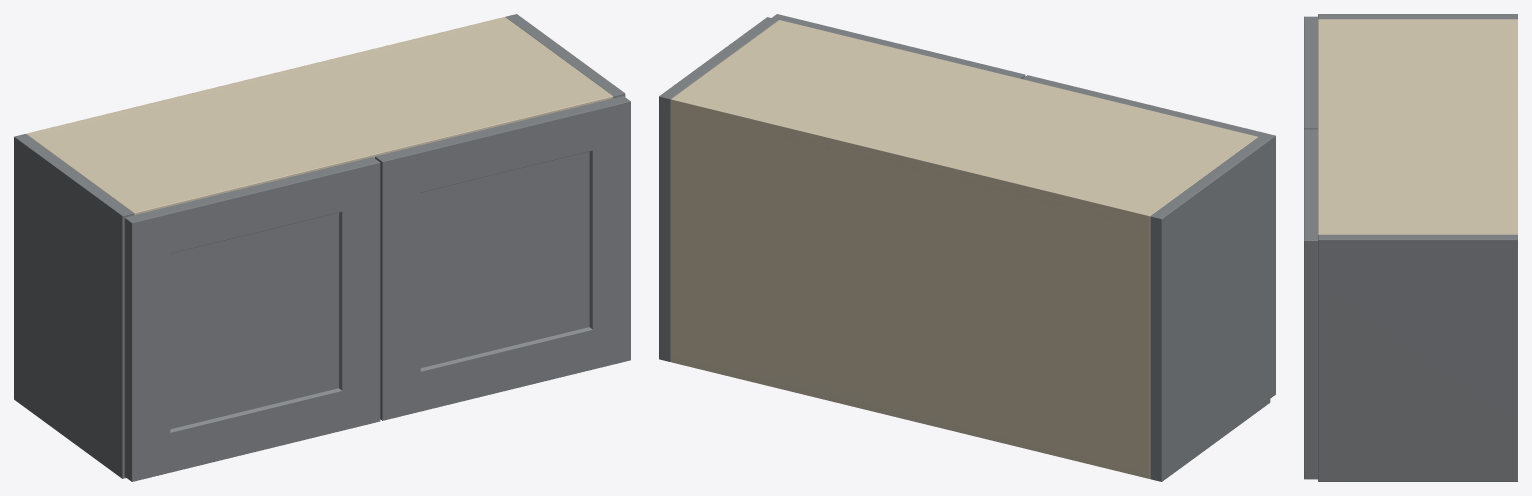
Rendered from oppein-ply-gss-w3015.glb.
The picture shows the model from 3 angles, left to right: view 1: azimuth 30°, elevation 25°; view 2: azimuth 150°, elevation 25°; view 3: azimuth 270°, elevation 25°; orthographic projection. The views are drawn at different scales.
Visible parts, largest first — view 1: Door, Door.001, Cabinet top, Cabinet side, Cabinet back, Cabinet side.001; view 2: Cabinet back, Cabinet top, Cabinet side, Cabinet bottom, Cabinet side.001, Door, Door.001; view 3: Cabinet side.001, Cabinet top, Door.001, Cabinet back, Door, Cabinet side.
Part boxes in pixels (left/top/right/bottom): Door: left=124, top=157, right=380, bottom=481; Door.001: left=375, top=96, right=630, bottom=420; Cabinet top: left=26, top=17, right=613, bottom=215; Cabinet side: left=14, top=134, right=133, bottom=478; Cabinet back: left=26, top=17, right=507, bottom=136; Cabinet side.001: left=505, top=14, right=625, bottom=98; Cabinet back: left=671, top=96, right=1153, bottom=478; Cabinet top: left=671, top=20, right=1257, bottom=227; Cabinet side: left=1150, top=137, right=1270, bottom=481; Cabinet bottom: left=671, top=350, right=1149, bottom=478; Cabinet side.001: left=659, top=17, right=778, bottom=361; Door: left=1022, top=75, right=1275, bottom=398; Door.001: left=772, top=14, right=1025, bottom=78; Cabinet side.001: left=1318, top=234, right=1517, bottom=481; Cabinet top: left=1318, top=19, right=1517, bottom=234; Door.001: left=1304, top=129, right=1317, bottom=479; Cabinet back: left=1510, top=19, right=1517, bottom=234; Door: left=1304, top=16, right=1317, bottom=129; Cabinet side: left=1318, top=14, right=1517, bottom=19.
Size of the model in its own units: 0.762 by 0.381 by 0.3048.
